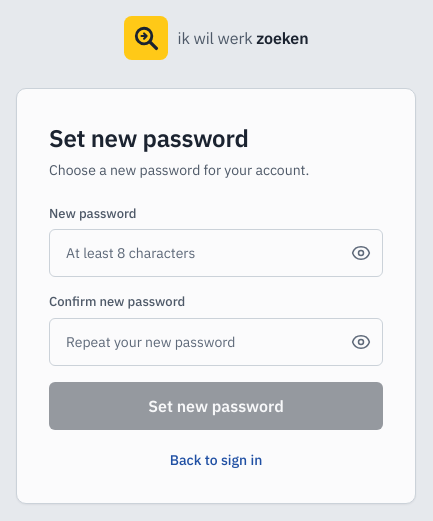
Test: ResetPasswordView – setting the password › stays disabled until both fields are filled
The width and height of the screenshot is (433, 521).
Expected: the submit button is disabled, [49, 382, 383, 430]
In the password field with id "new-password": (216, 253) [49, 229, 383, 277], type "new-password"
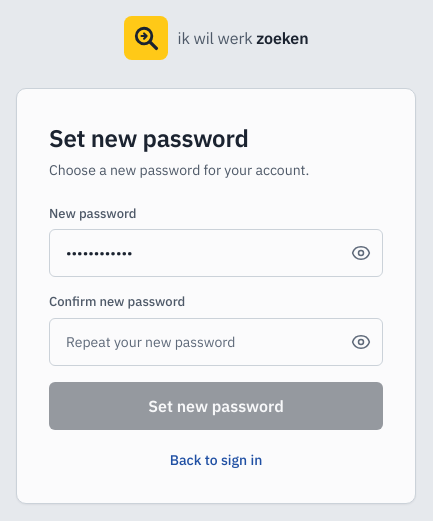
Expected: the submit button is disabled, [49, 382, 383, 430]
In the password field with id "confirm-password": (216, 342) [49, 318, 383, 366], type "new-password"
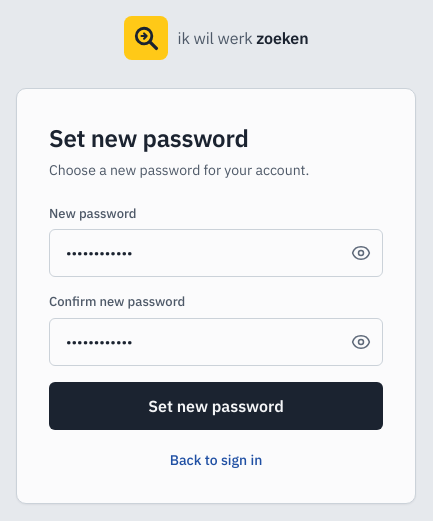
Expected: the submit button is enabled, [49, 382, 383, 430]
